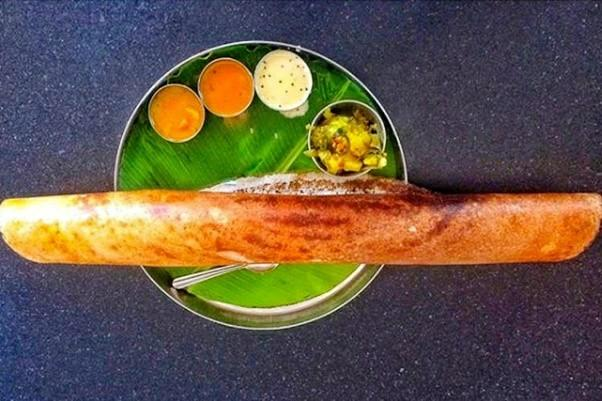CoconutChutney: (257, 52, 311, 108)
Dosa: (0, 179, 602, 265)
